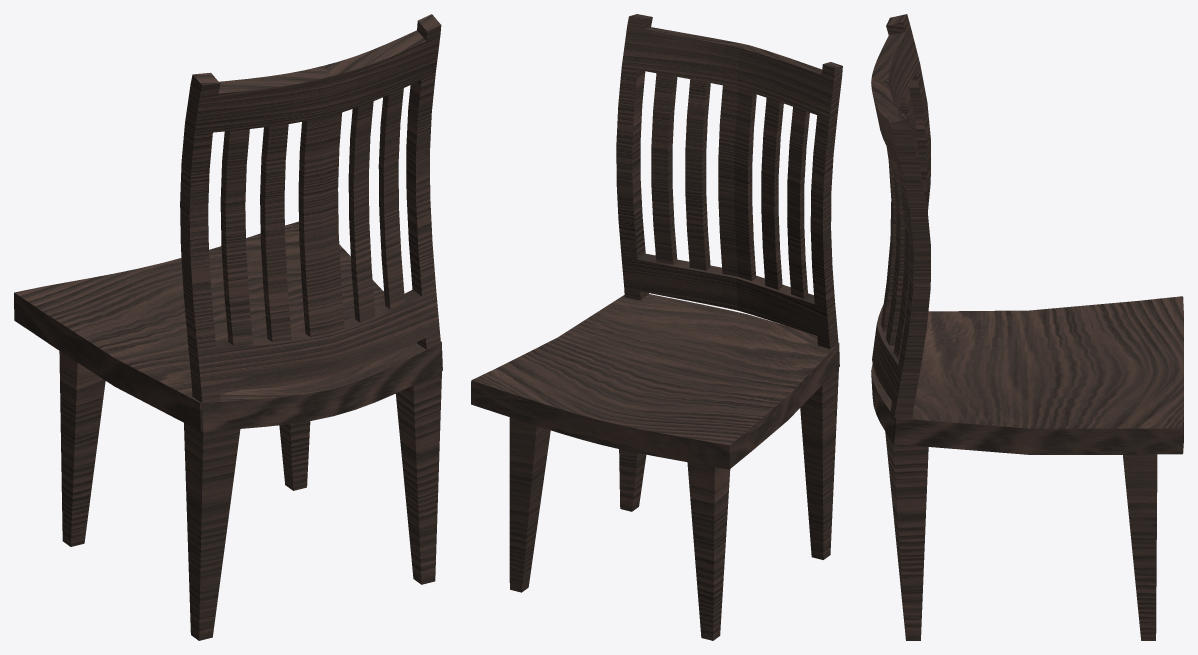
File: LivingRoomDiningChair.fbx
3 renders of one model, left to right at view 1: azimuth 30°, elevation 25°; view 2: azimuth 150°, elevation 25°; view 3: azimuth 270°, elevation 25°, orthographic. The views are drawn at different scales.
Visible parts, largest first — view 1: Cube; view 2: Cube; view 3: Cube.
Part boxes in pixels (x1,y1,x2,y2): Cube: (14,14,442,640); Cube: (471,14,842,640); Cube: (871,14,1183,640).
Size of the model in its own units: 55.37 by 100 by 54.42.
1 material, 1 textured.
